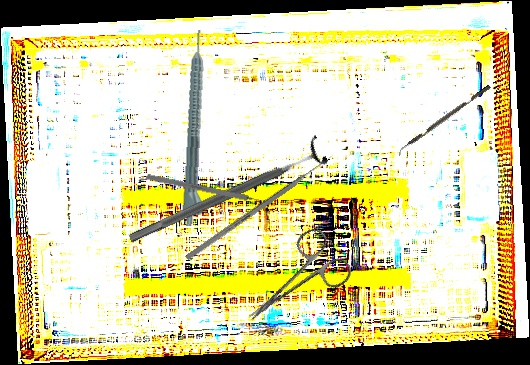Chopper: (395, 84, 494, 158)
Fixation Ring: (122, 133, 330, 254)
Handpiece: (181, 30, 215, 227)
Hook Surgical: (145, 173, 273, 207)
Iris Scissors: (228, 222, 357, 343)
Pusher: (185, 153, 335, 261)
